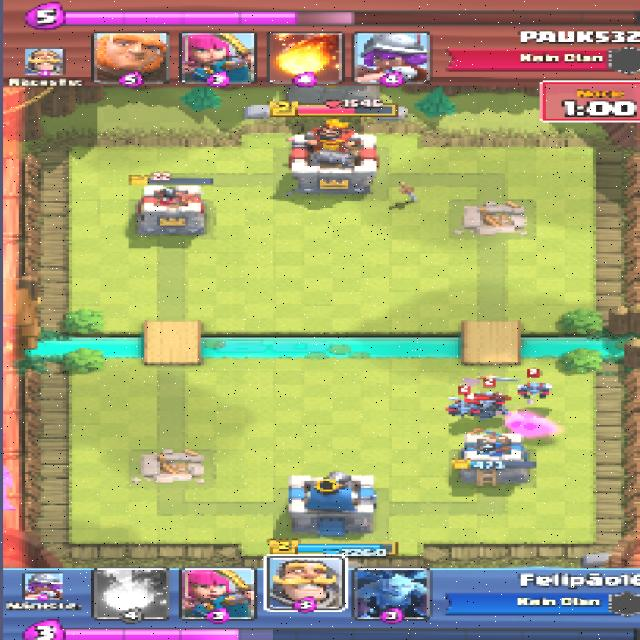Enemy-MiniPEKKA: (470, 399, 500, 418)
Enemy-Minion: (450, 400, 480, 414), (522, 383, 552, 397), (476, 392, 500, 406)
